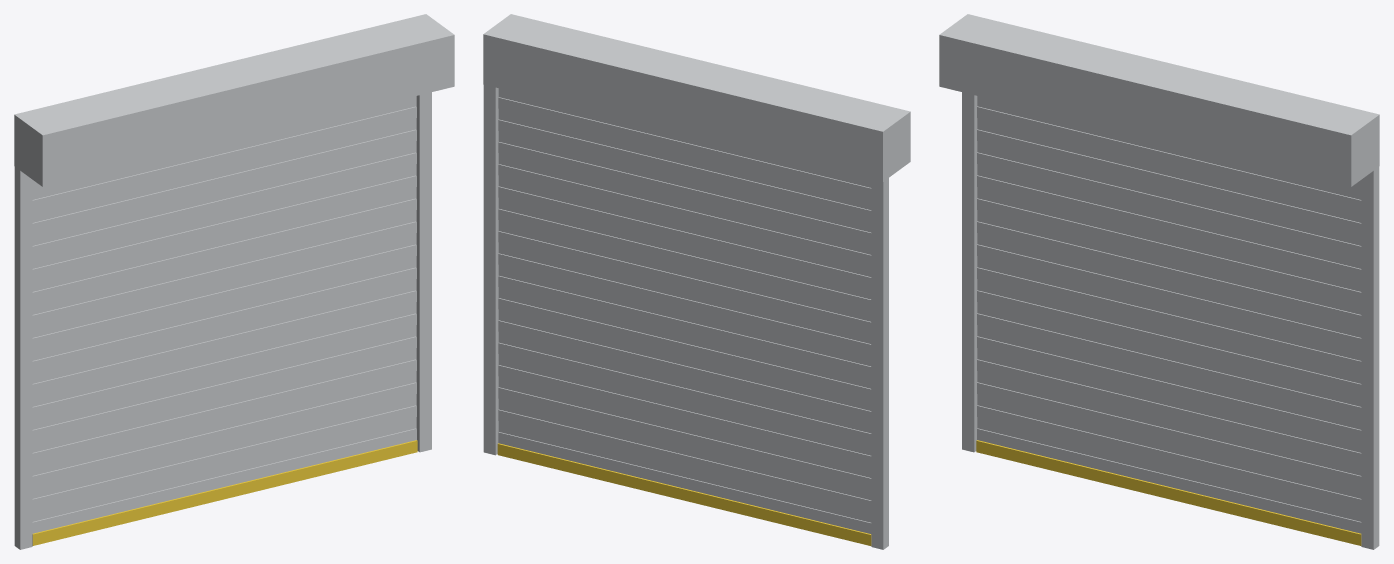
Rendered from opening.door.shutter_3000x3000.glb.
3 views of the same model, side by side, from view 1: azimuth 30°, elevation 25°; view 2: azimuth 150°, elevation 25°; view 3: azimuth 330°, elevation 25° (orthographic). The views are drawn at different scales.
Parts seen in each view (by area): view 1: leaf__steel_galvanised, frame__steel_galvanised, leaf__plant_yellow; view 2: leaf__steel_galvanised, frame__steel_galvanised, leaf__plant_yellow; view 3: leaf__steel_galvanised, frame__steel_galvanised, leaf__plant_yellow.
Part boxes in pixels (<box>): leaf__steel_galvanised: <box>32,96,416,533</box>; frame__steel_galvanised: <box>14,14,454,549</box>; leaf__plant_yellow: <box>32,440,417,545</box>; leaf__steel_galvanised: <box>498,88,871,533</box>; frame__steel_galvanised: <box>483,14,910,549</box>; leaf__plant_yellow: <box>497,443,871,545</box>; leaf__steel_galvanised: <box>977,96,1361,533</box>; frame__steel_galvanised: <box>939,14,1379,549</box>; leaf__plant_yellow: <box>976,440,1361,545</box>.
Size of the model in its own units: 3 by 3 by 0.36.
